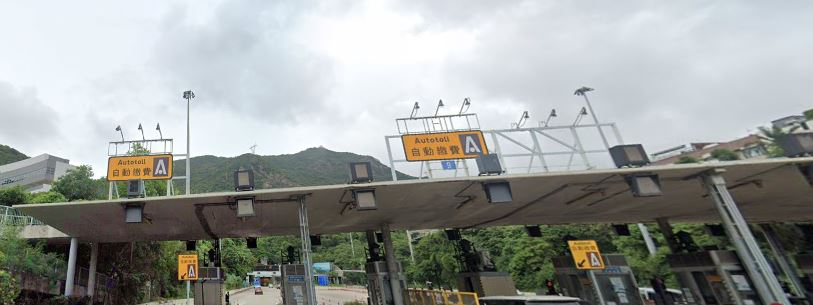Autotoll: (401, 129, 486, 159), (107, 153, 170, 182), (565, 239, 608, 271), (174, 256, 202, 280)
